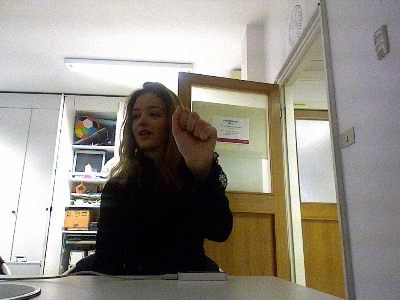石头: (170, 103, 218, 167)
